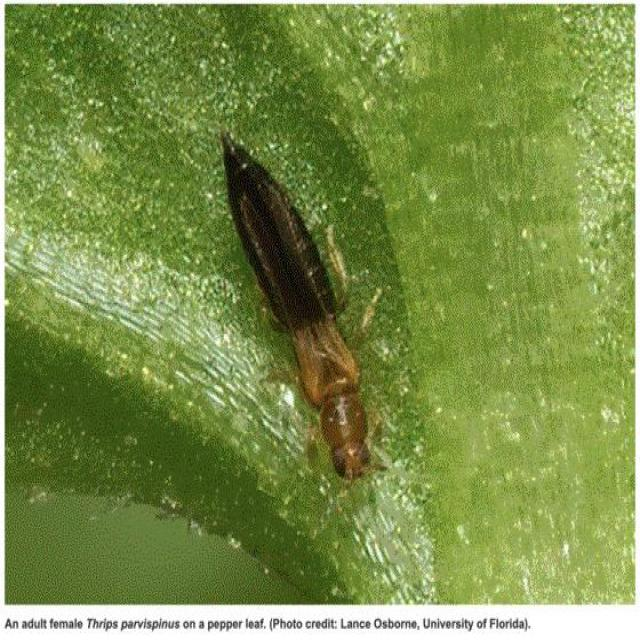Thrip-Adult-: (200, 114, 398, 490)
